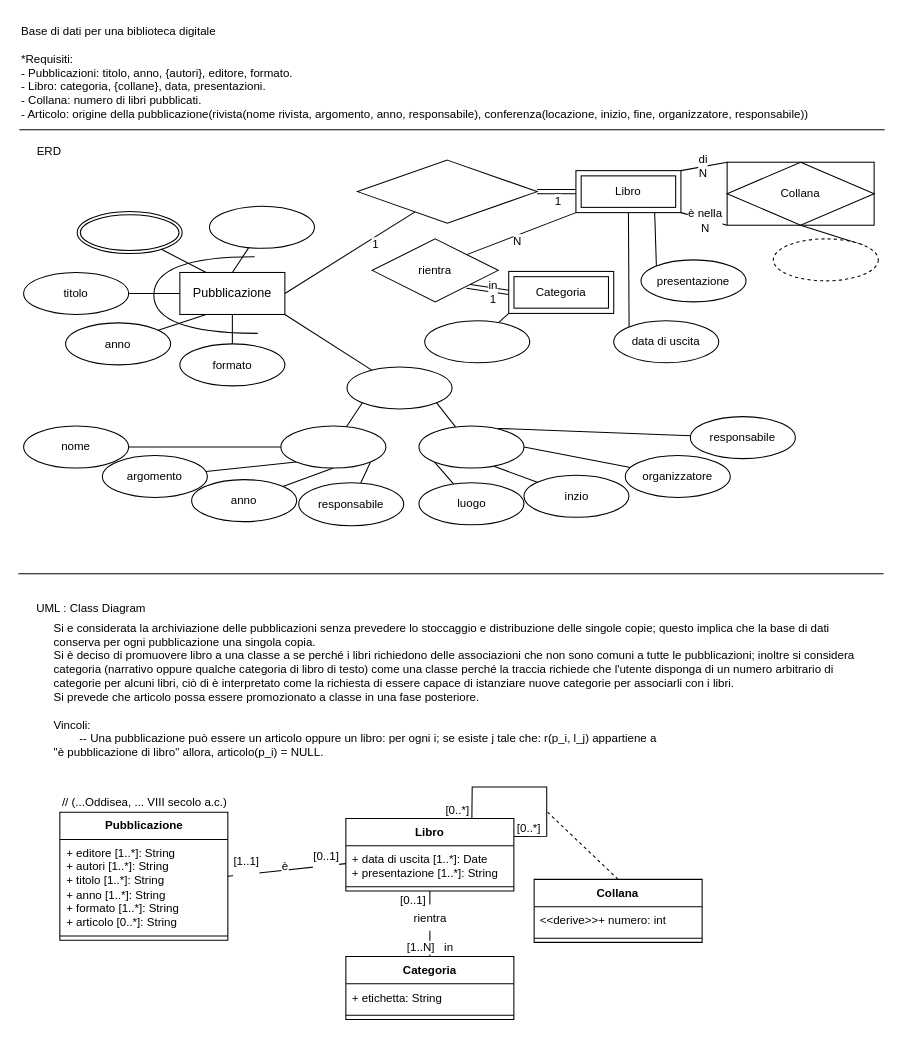
This 903x1037 diagram has some shape labels left out. Here are the shapes that lost their labels. From the top down, the box of each, then its label:
(356, 159, 537, 223): è pubblicazione di libro
(76, 211, 182, 254): autori
(208, 205, 314, 248): editore
(772, 238, 878, 281): numero di libri
(424, 320, 530, 363): etichetta
(346, 366, 452, 409): articolo
(280, 425, 386, 468): rivista
(418, 425, 524, 468): conferenza
